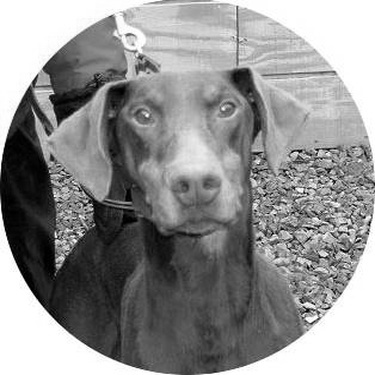dog: (34, 58, 334, 366), (11, 40, 161, 154)
